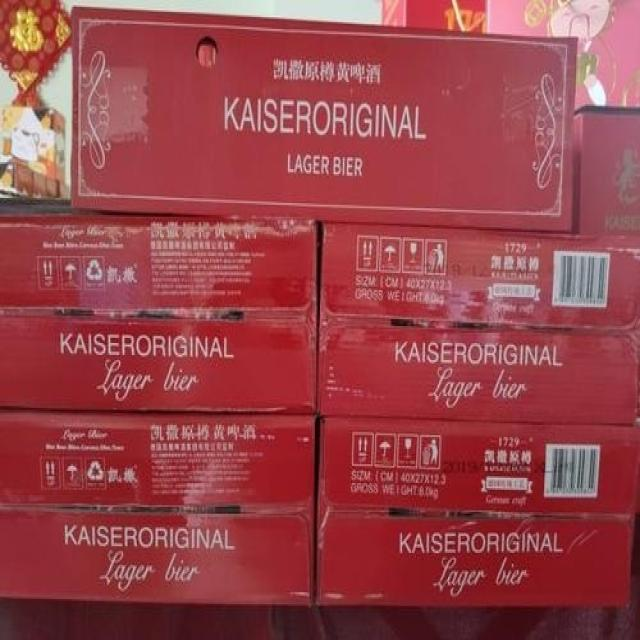box: (320, 222, 640, 333), (319, 321, 640, 427), (0, 210, 317, 317), (317, 416, 640, 517), (0, 503, 315, 606), (316, 509, 634, 609), (0, 410, 317, 510), (0, 317, 319, 416), (573, 104, 640, 234)
